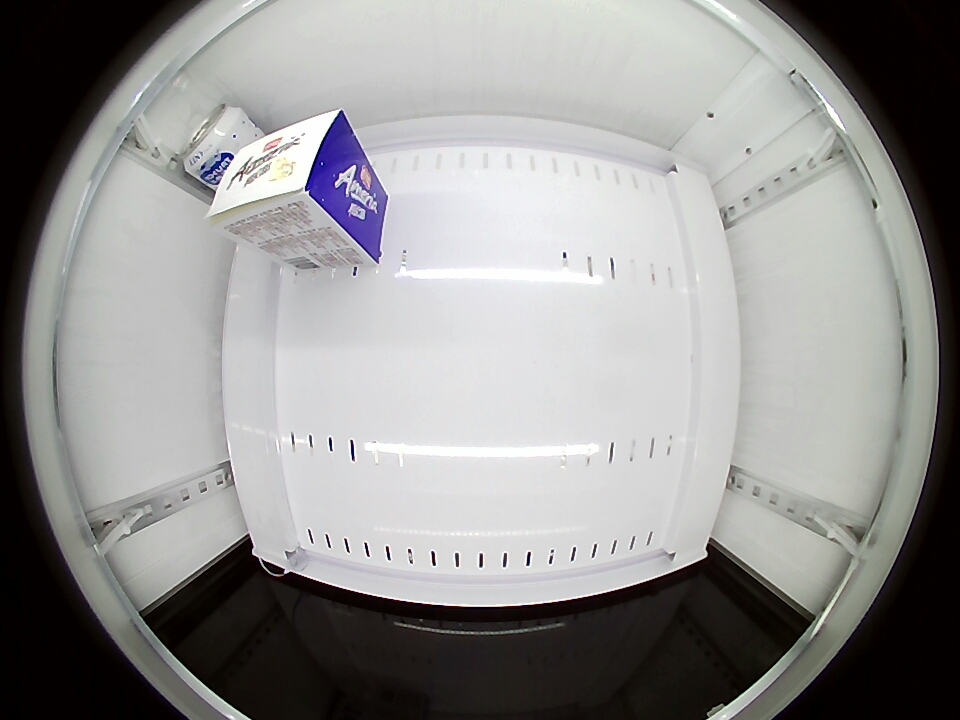meiniye: (203, 107, 355, 239)
rusuanjunqishui: (181, 104, 250, 179)
